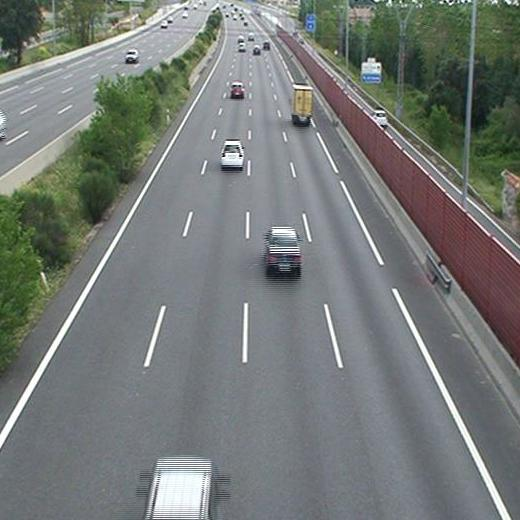car: (265, 228, 302, 271), (221, 141, 244, 166), (230, 82, 244, 97), (237, 42, 245, 52), (253, 47, 262, 55)
small-truck: (291, 85, 312, 124)
